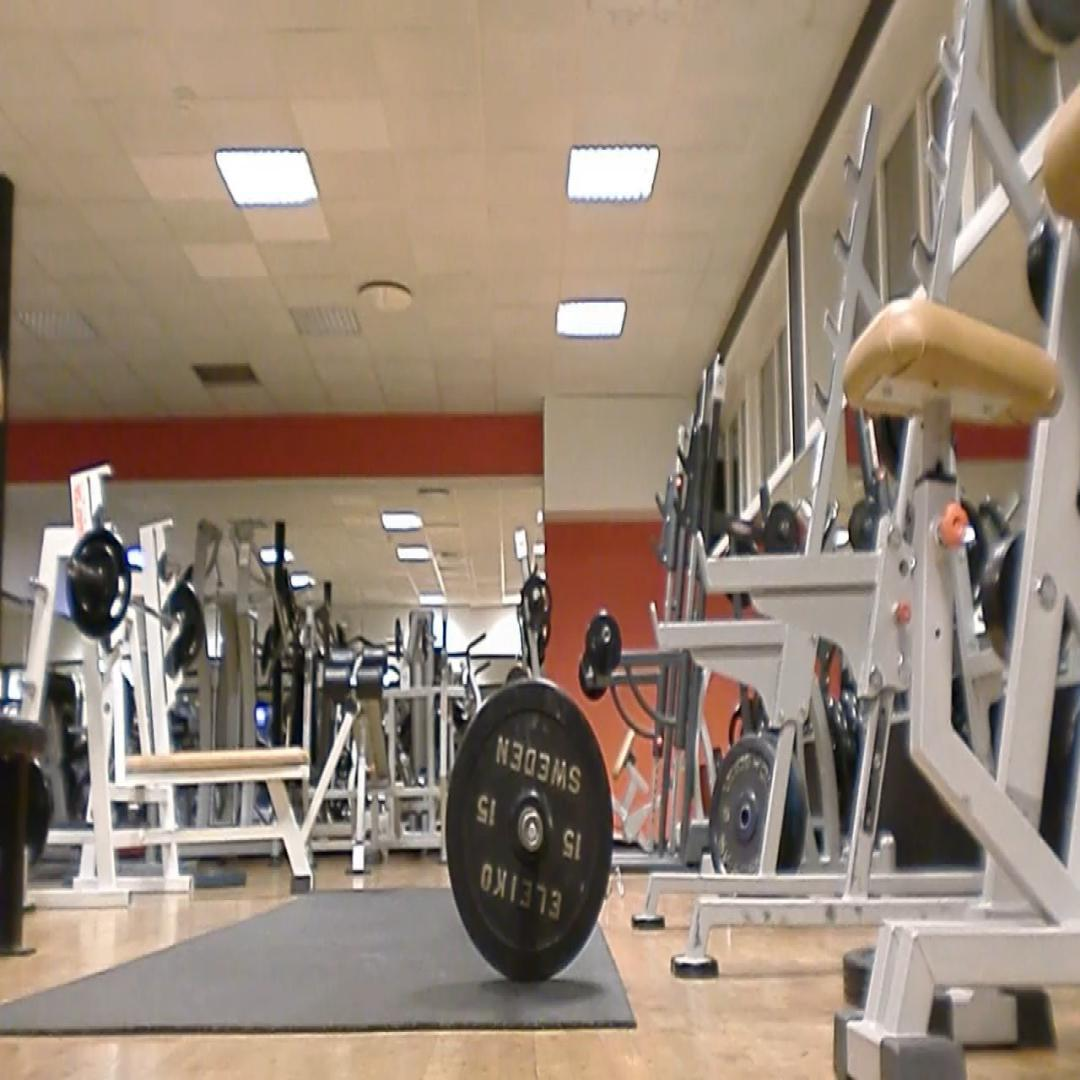Bar: (518, 808, 544, 854)
Barbell: (444, 677, 614, 981)
